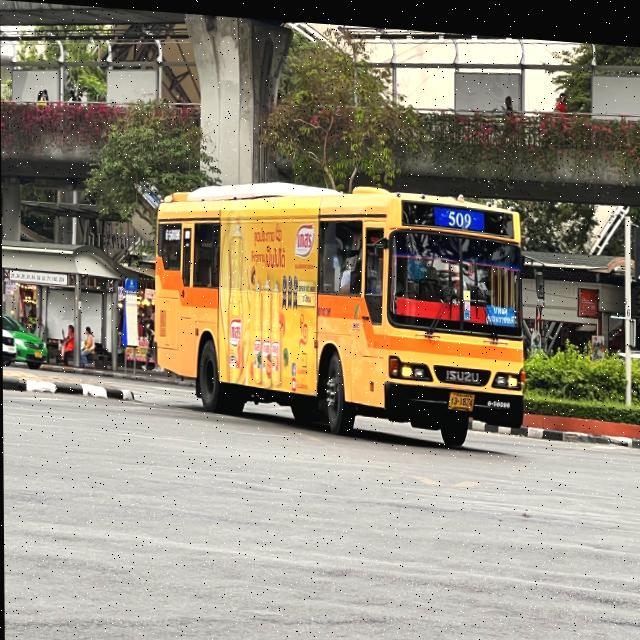BMTA-bus: (153, 179, 526, 443)
Bus Line Number: (443, 201, 476, 225)
Bus Side Number: (484, 389, 513, 405)
Destination Sign: (486, 297, 515, 321)
